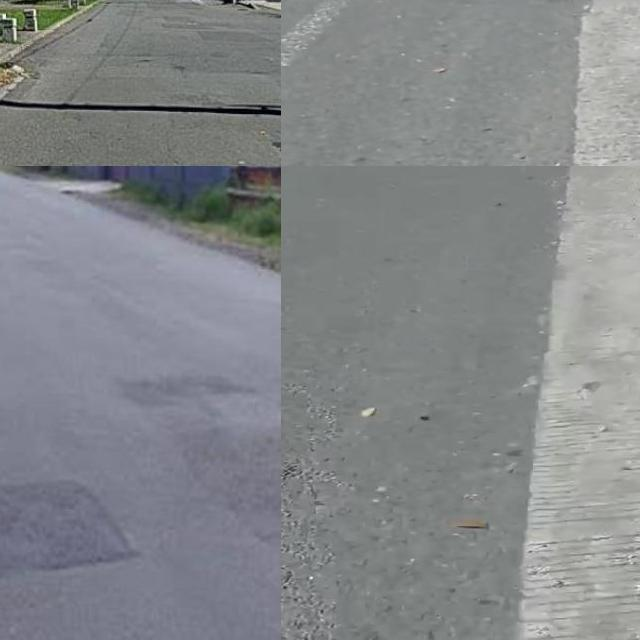Sambungan: (510, 166, 640, 640), (0, 477, 136, 576)
